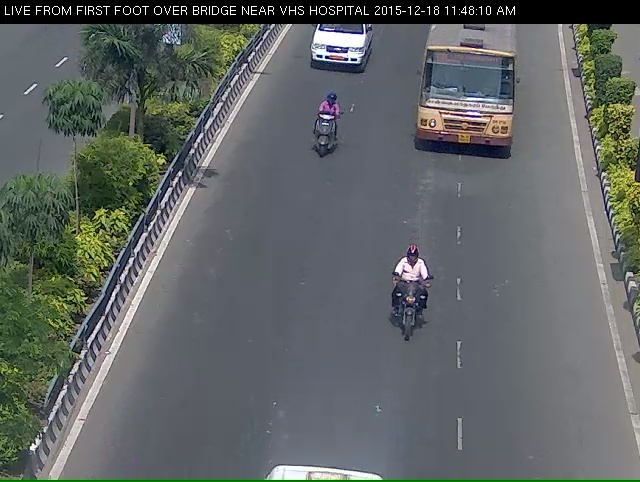Bus: (414, 24, 518, 169)
Car: (298, 22, 375, 82)
Person: (386, 268, 440, 370), (308, 108, 342, 177)
